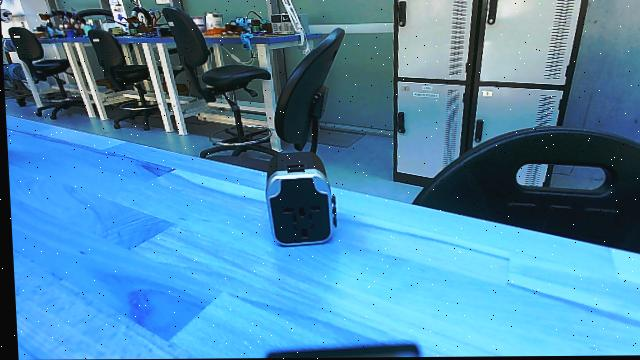adapter: (256, 148, 339, 253)
